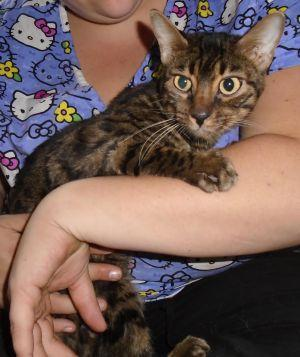bengal: (141, 1, 294, 144)
